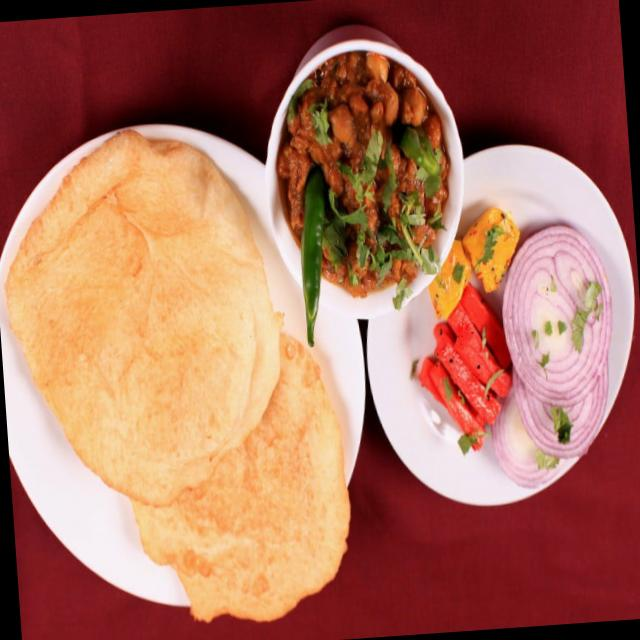Bhatura: (0, 108, 358, 639)
Chole: (274, 43, 458, 306)
